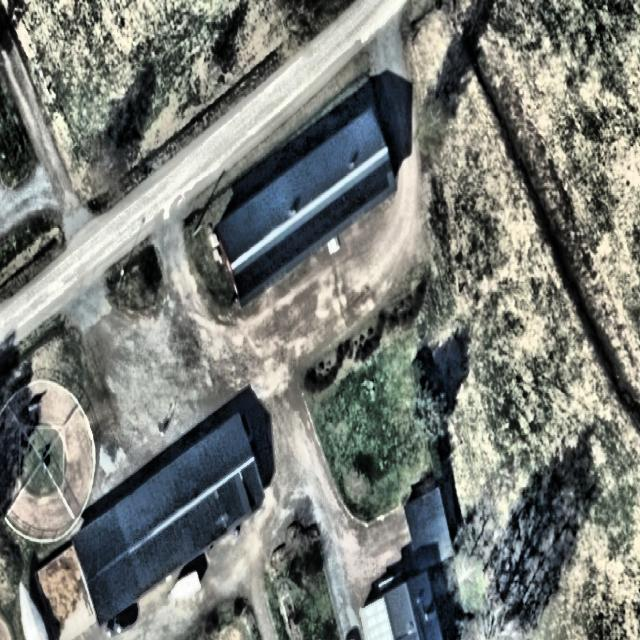roof_pv: (231, 254, 269, 300), (264, 240, 291, 284), (288, 218, 315, 260), (337, 183, 360, 230), (315, 198, 338, 241), (377, 156, 397, 201), (358, 169, 378, 208)
